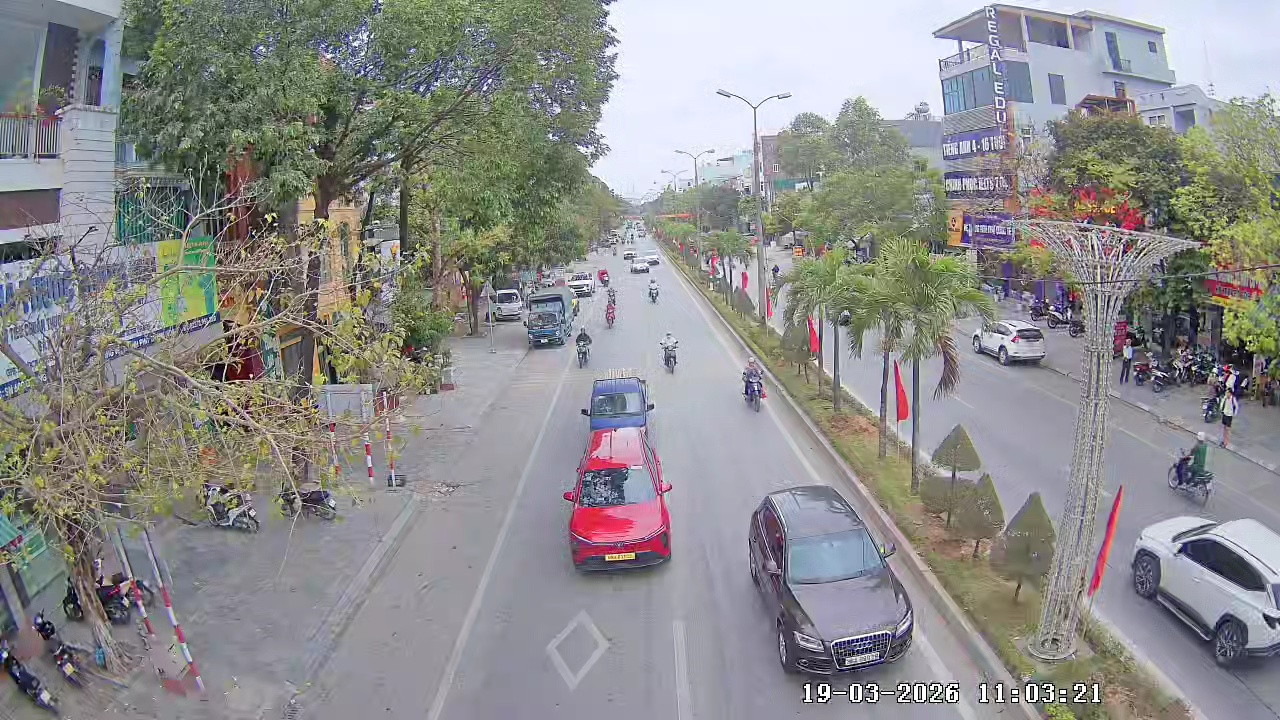car: (745, 483, 917, 678), (1129, 514, 1279, 670), (562, 452, 674, 574), (579, 368, 659, 452), (972, 322, 1049, 368), (625, 249, 660, 273)
motorbike: (1166, 435, 1218, 506), (286, 486, 341, 523), (739, 356, 767, 413), (659, 330, 680, 375), (574, 327, 593, 368), (603, 288, 618, 329), (646, 274, 660, 304)
truck: (524, 283, 578, 349)
